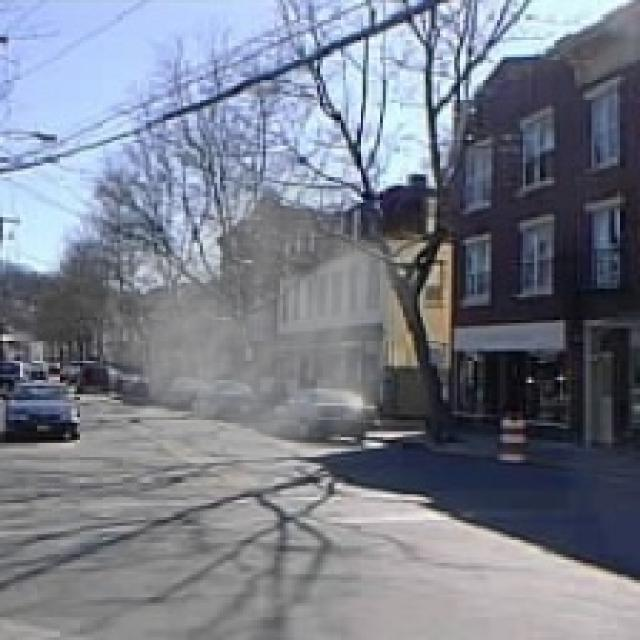Smoke: (57, 154, 417, 517)
